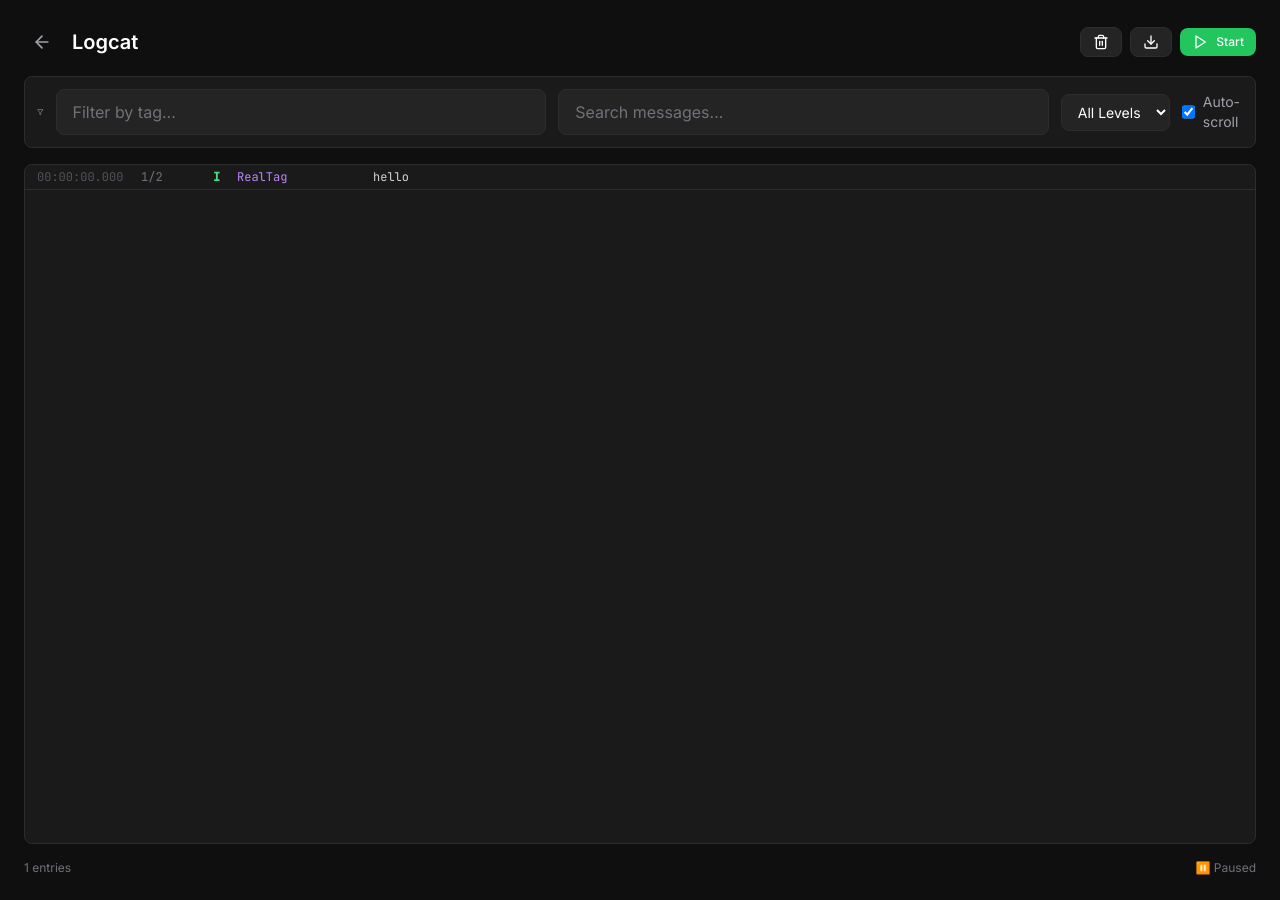
LogcatPage › filters out logs when tag does not match
This screenshot has width=1280, height=900.
Check: the text "hello" is shown, box top-left (373, 169), bottom-right (409, 185)
Step 1. Type "Nope" into the field with placeholder "Filter by tag..." → (301, 112), box top-left (56, 89), bottom-right (546, 135)
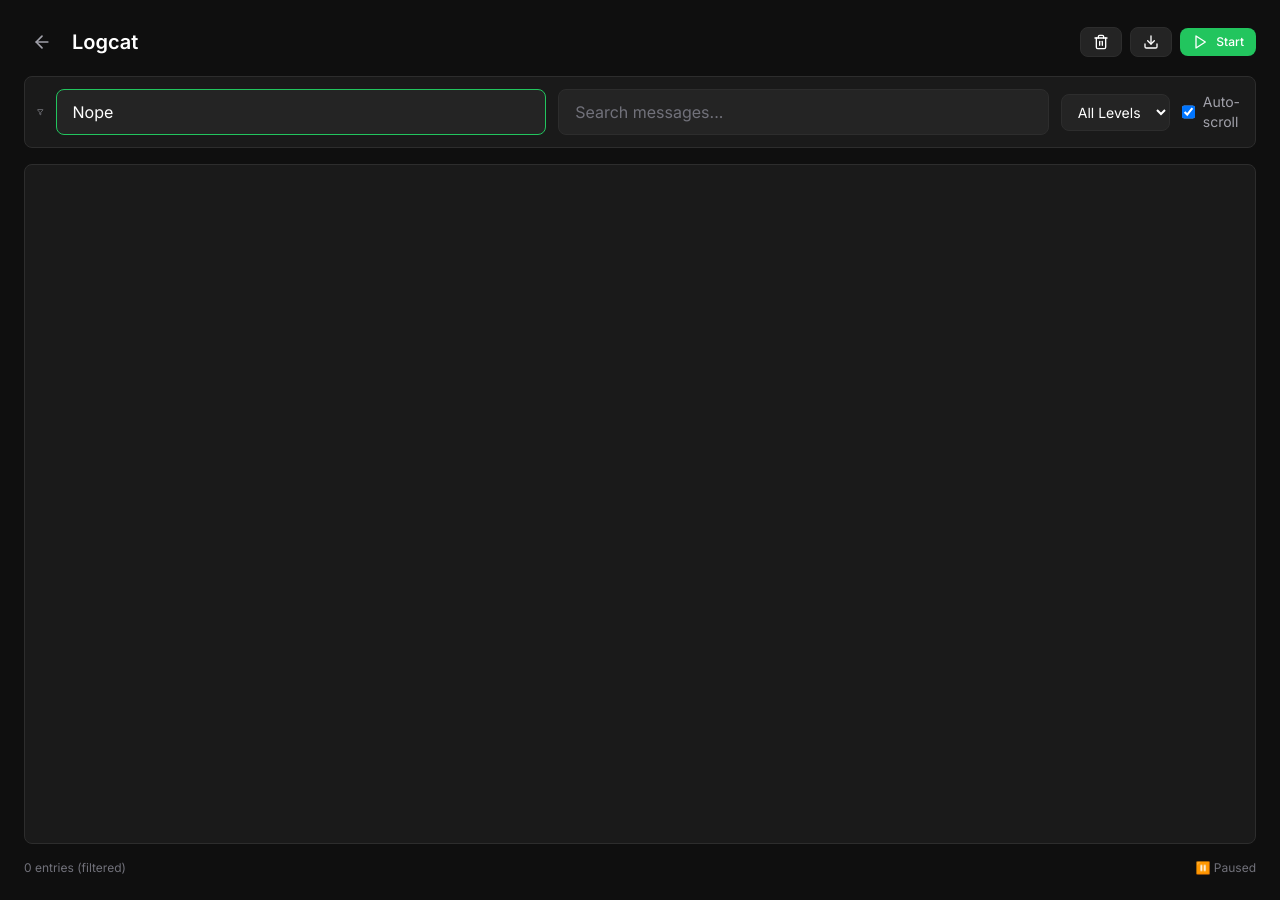
Check: the text "hello" is gone
